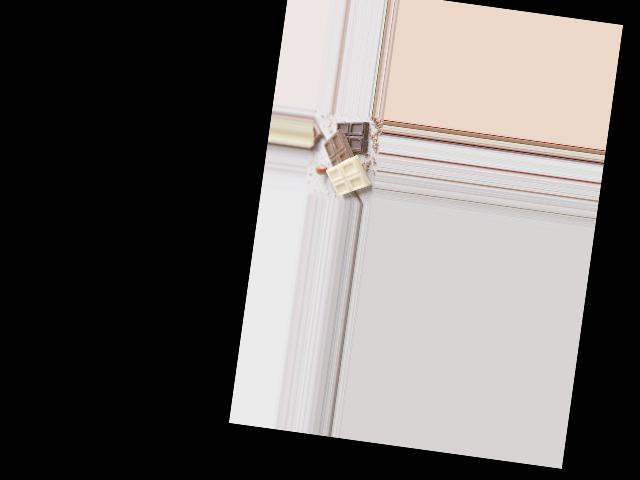chocolate: (317, 113, 375, 198)
